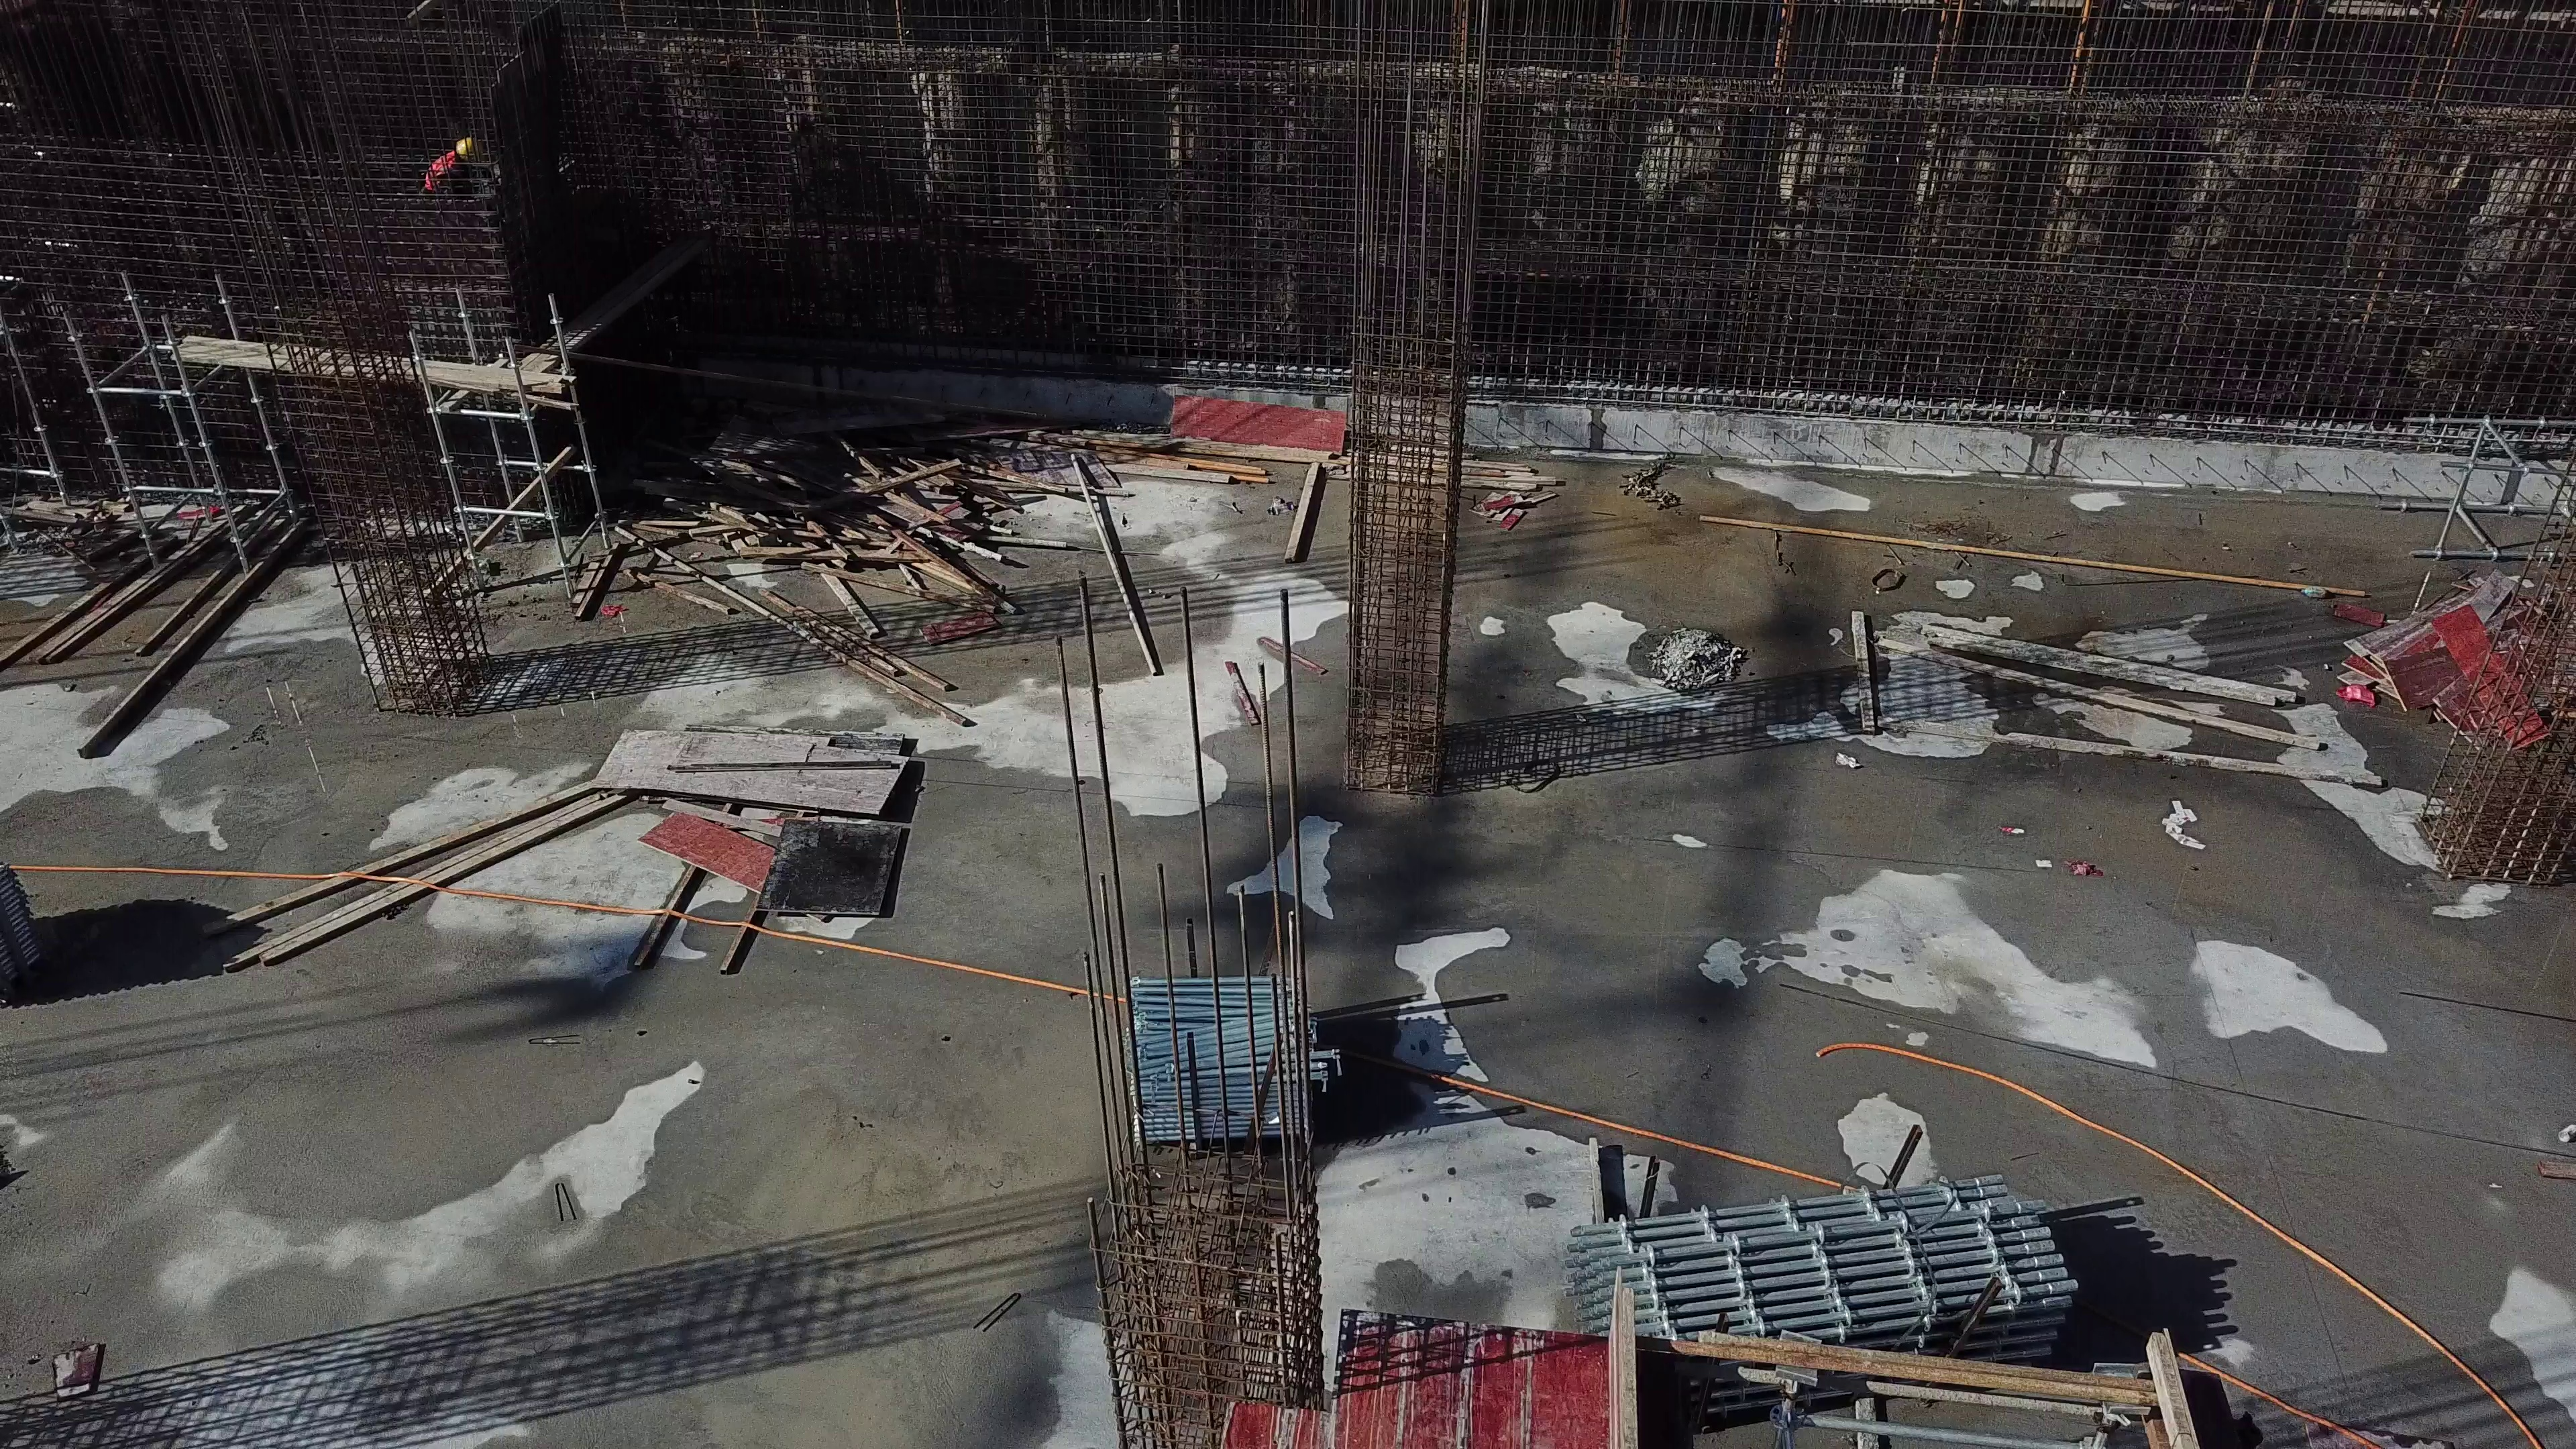helmet: (454, 136, 480, 160)
person: (415, 113, 496, 197)
scaffold: (1591, 1163, 2103, 1334), (1141, 963, 1328, 1159)
vest: (425, 144, 457, 190)
